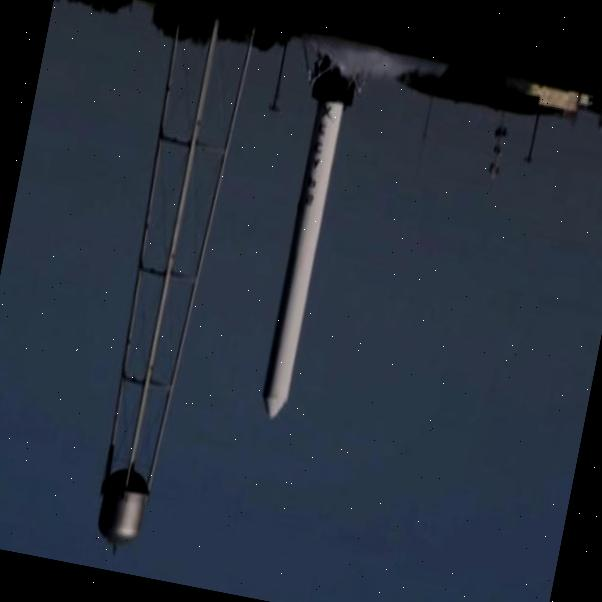smoke: (310, 27, 453, 99)
